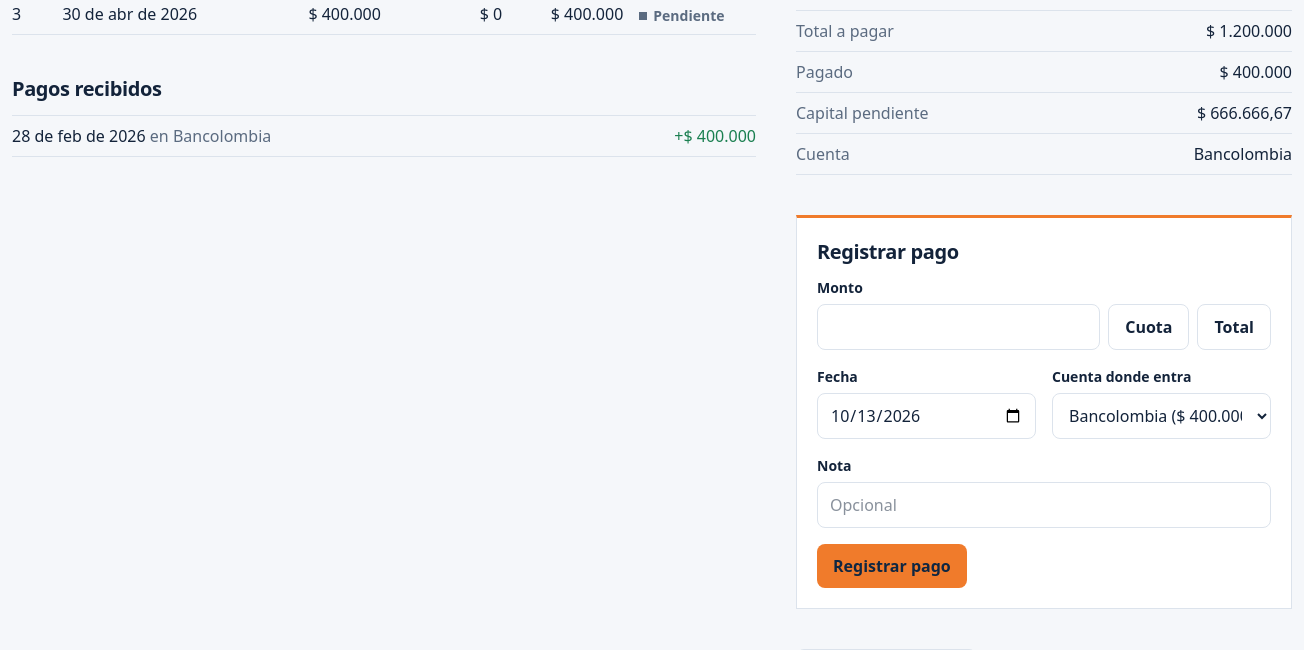
Test: total button fills the outstanding amount
(page scrolled)
Click the button "Total" at (1234, 327), box left=1198, top=304, right=1271, bottom=350
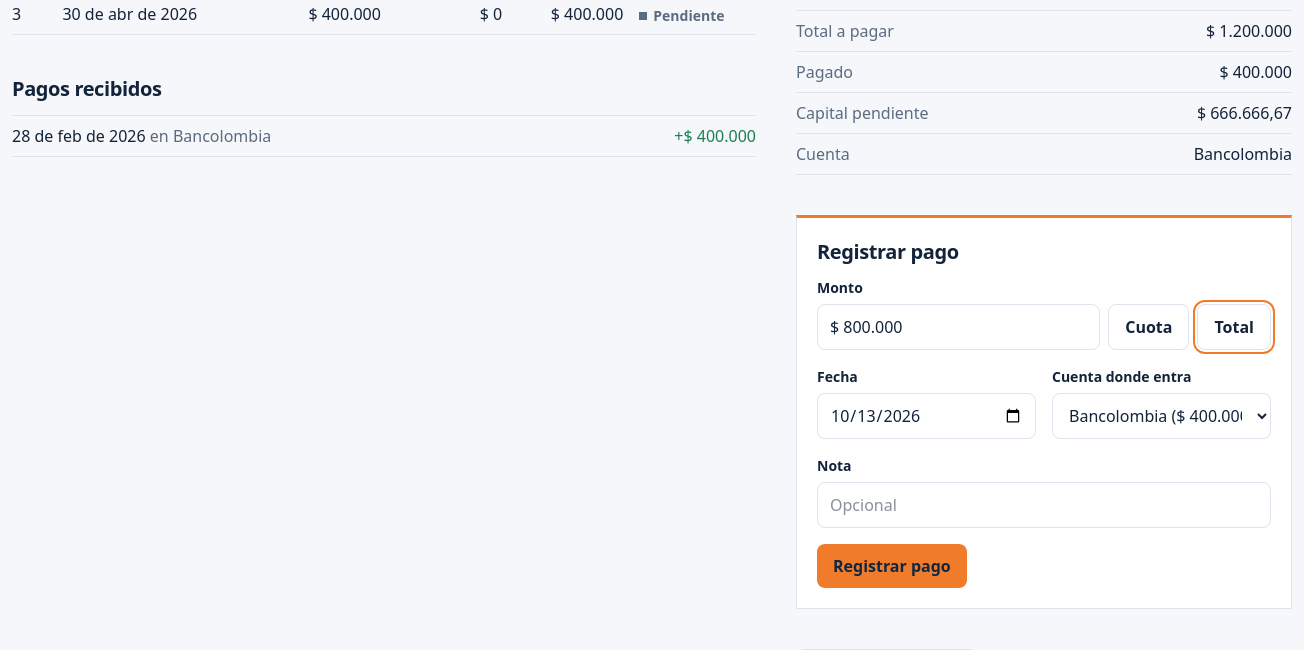
Check: the field labelled "Monto" holds "$ 800.000", box left=817, top=304, right=1100, bottom=350
